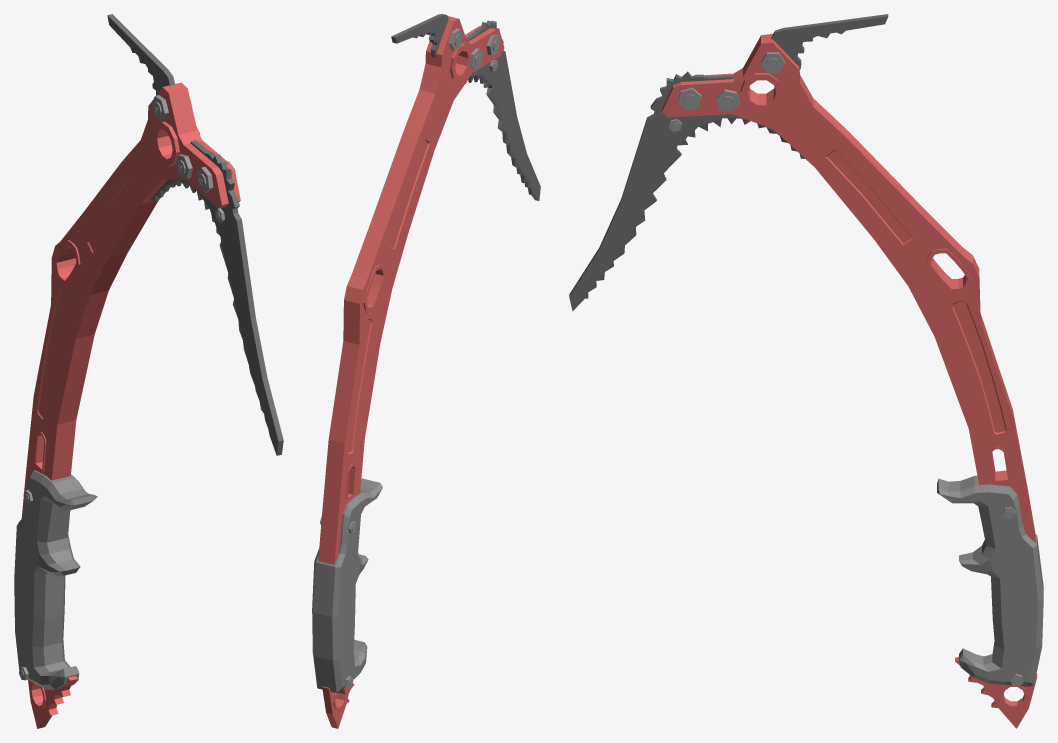
File: Ice ax.fbx
3 views of the same model, side by side, from view 1: azimuth 30°, elevation 25°; view 2: azimuth 150°, elevation 25°; view 3: azimuth 270°, elevation 25° (orthographic). The views are drawn at different scales.
Parts seen in each view (by area): view 1: Куб; view 2: Куб; view 3: Куб.
Boxes of the visible parts, x1,y1,x2,y2 form: Куб: (14, 14, 283, 728); Куб: (312, 14, 540, 728); Куб: (569, 14, 1043, 728).
Bounding box in the file's own units: 24 × 450 × 272.
